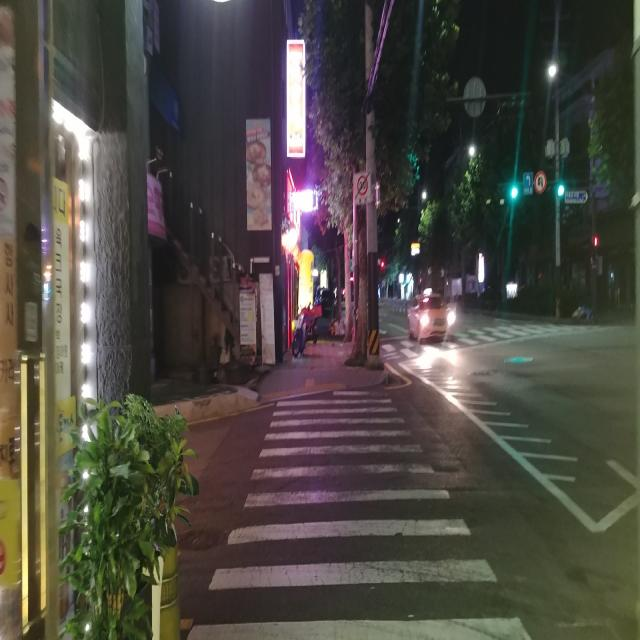빨간불: (592, 236, 600, 260)
횡단보도: (184, 388, 534, 640), (382, 326, 595, 360)
